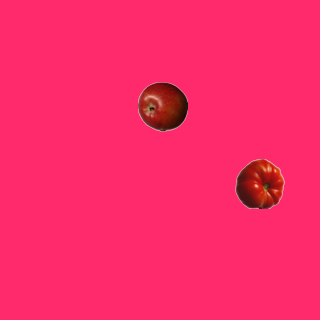Apple Braeburn: (137, 81, 187, 131)
Tomato 3: (234, 158, 284, 208)
